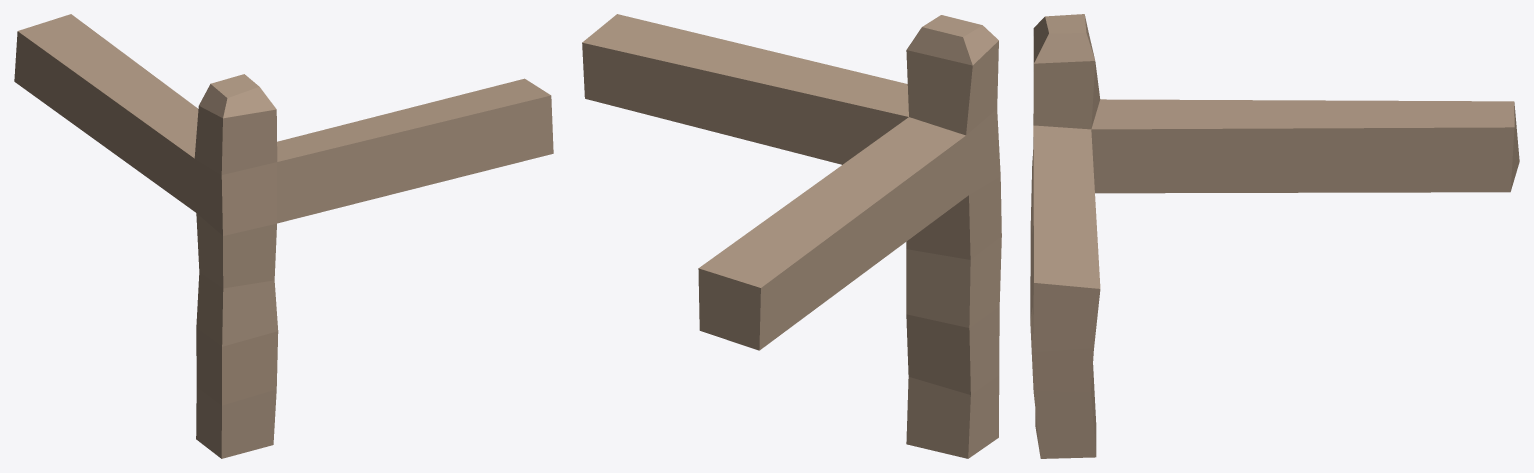
The model's file is Fence3.fbx.
3 renders of one model, left to right at view 1: azimuth 30°, elevation 25°; view 2: azimuth 150°, elevation 25°; view 3: azimuth 270°, elevation 25°, orthographic. The views are drawn at different scales.
Visible parts, largest first — view 1: Cube.001; view 2: Cube.001; view 3: Cube.001.
Part boxes in pixels (bbox=[...]): Cube.001: bbox=[14, 14, 553, 458]; Cube.001: bbox=[582, 14, 1001, 458]; Cube.001: bbox=[1030, 14, 1519, 458].
Size of the model in its own units: 184 by 190 by 200.
